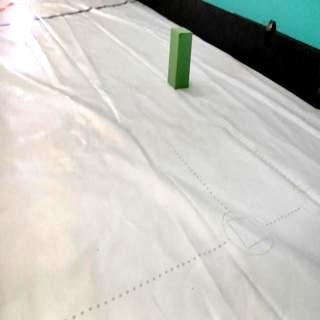greenbox: (168, 27, 194, 91)
